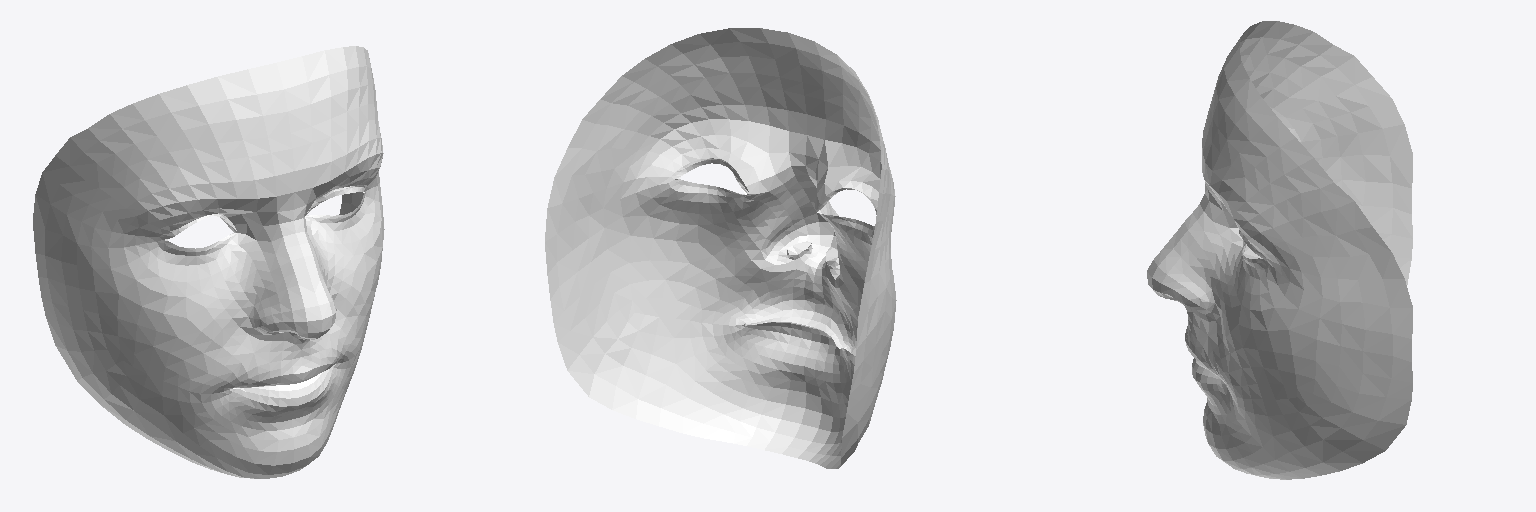
File: eyeLookUp_R.obj
3 renders of one model, left to right at view 1: azimuth 30°, elevation 25°; view 2: azimuth 150°, elevation 25°; view 3: azimuth 270°, elevation 25°, orthographic.
Parts seen in each view (by area): view 1: default; view 2: default; view 3: default.
Boxes of the visible parts, box(x1,y1,x2,y2) form: default: box(33, 46, 384, 478); default: box(545, 28, 896, 468); default: box(1147, 21, 1412, 479).
Bounding box in the file's own units: 0.1447 × 0.182 × 0.1055.